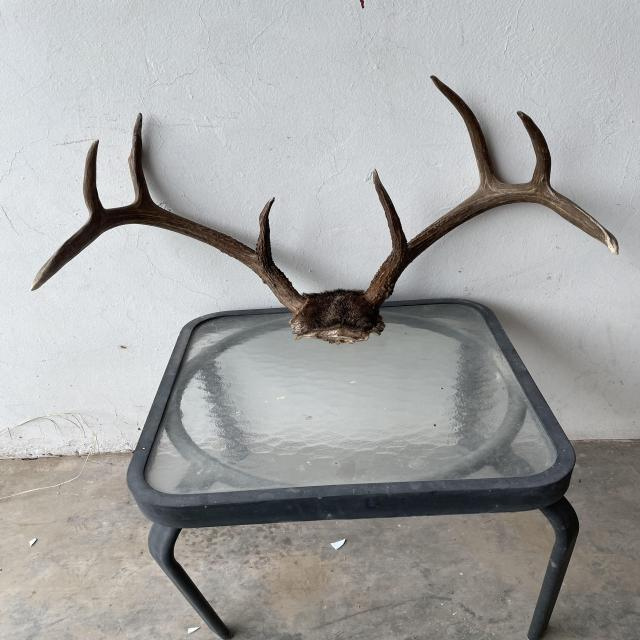L-F: (361, 182, 619, 315)
L-G1: (373, 169, 408, 251)
L-G2: (429, 74, 506, 191)
L-G3: (516, 110, 552, 188)
R-F: (30, 203, 308, 319)
R-G1: (255, 197, 275, 262)
R-G2: (127, 112, 157, 206)
R-G3: (83, 139, 106, 216)
